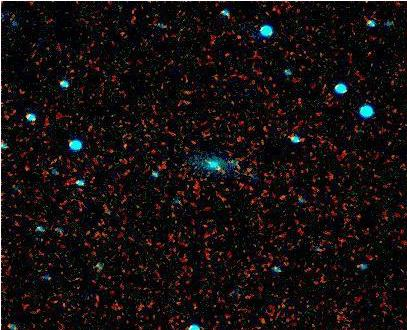star: (201, 154, 231, 184)
